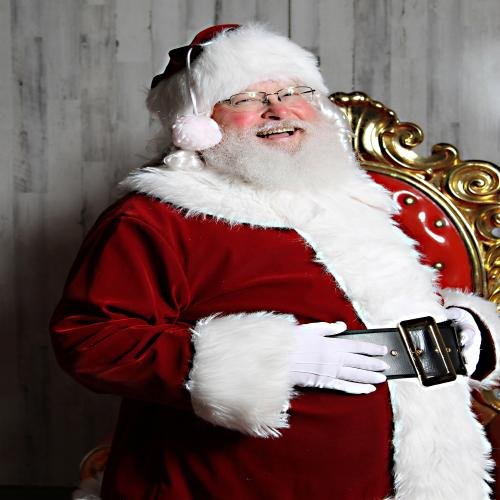Santa: (49, 22, 500, 500)
